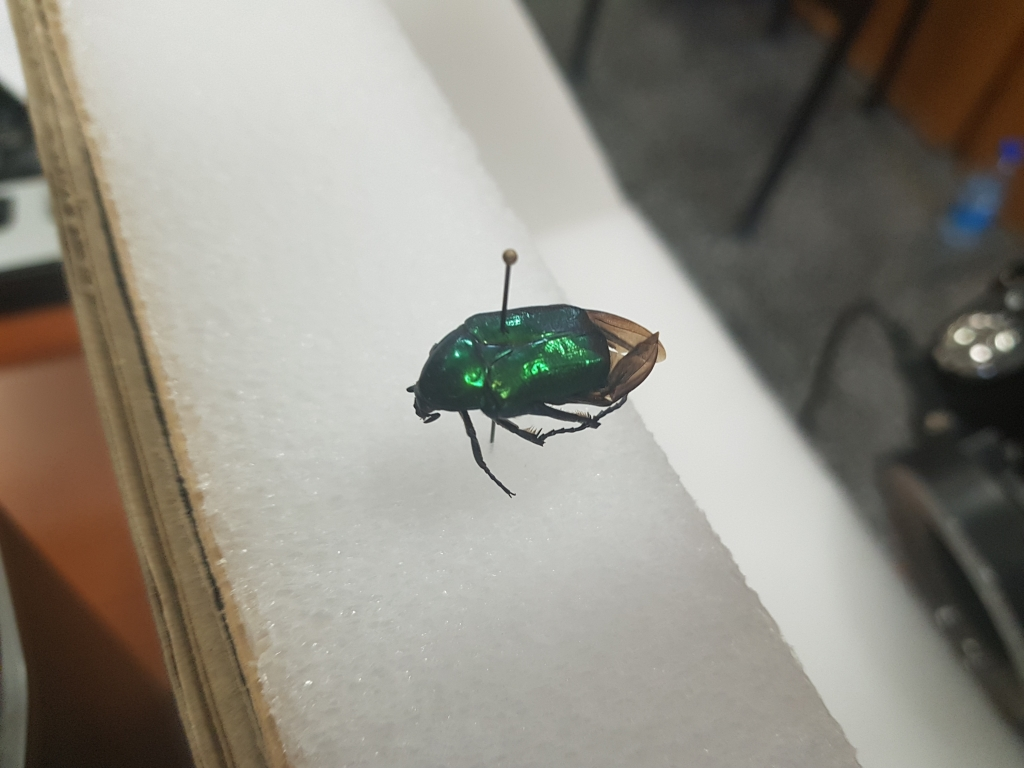Protaetia_angustata_angustata: (398, 286, 669, 500)
